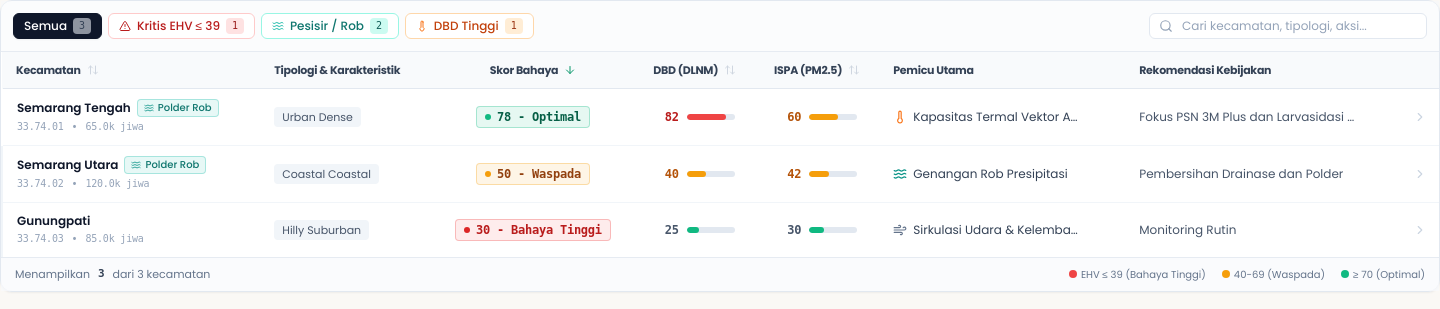
Dashboard Components › VulnerabilityTable filters districts by search query and triage buttons
The image size is (1440, 309).
Filter by search query
Type "Gunungpati" into the field with placeholder "Cari kecamatan, tipologi, aksi..." at (1288, 26), box [1149,13,1427,39]
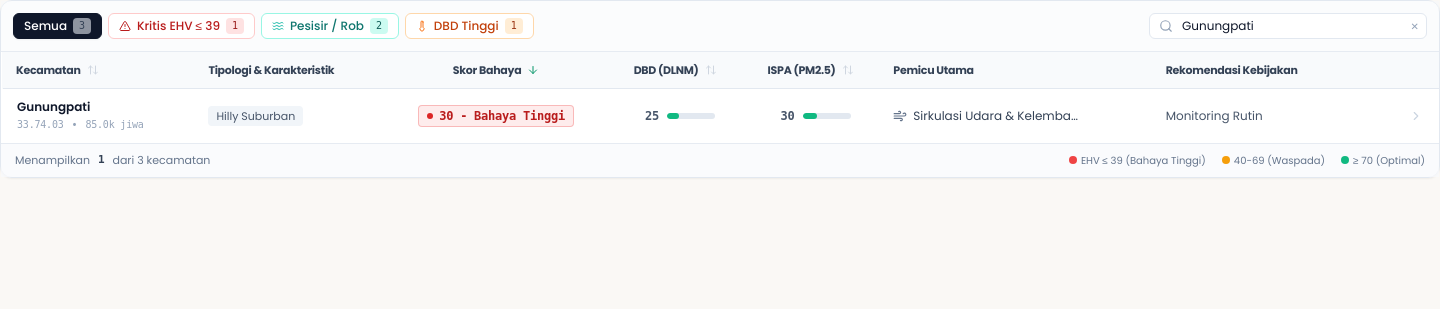
Expected: the text "Gunungpati" is shown, [17,99,90,115]
Result: the text "Semarang Tengah" is gone
Reset search
Clear the field with placeholder "Cari kecamatan, tipologi, aksi..." at (1288, 26), box [1149,13,1427,39]
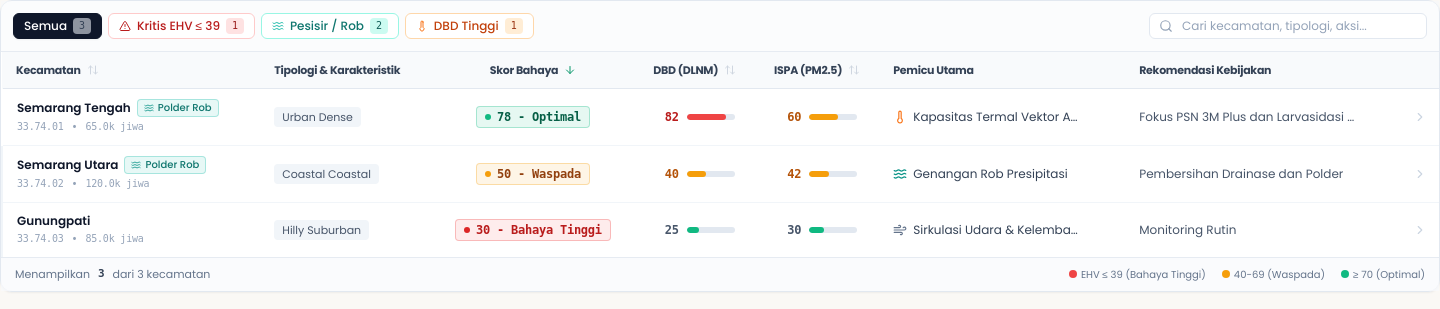
Result: the text "Semarang Tengah" is shown at [17,100,131,116]
Click the text "Kritis EHV ≤ 39" at (178, 26), box [137,18,220,34]
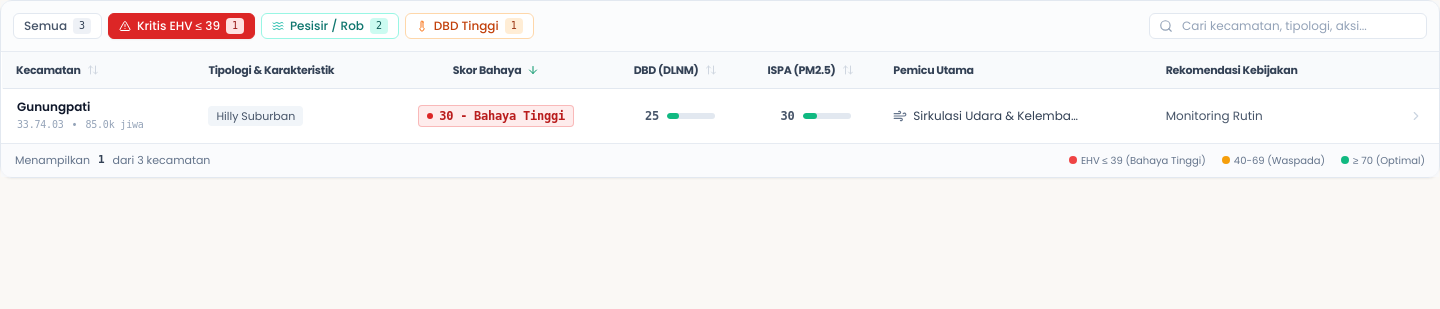
Expected: the text "Gunungpati" is shown, [17,99,90,115]
Result: the text "Semarang Tengah" is gone
Result: the text "Semarang Utara" is gone
Triage filter: Rob Hazard
Click the text "Pesisir / Rob" at (327, 26), box [290,18,364,34]
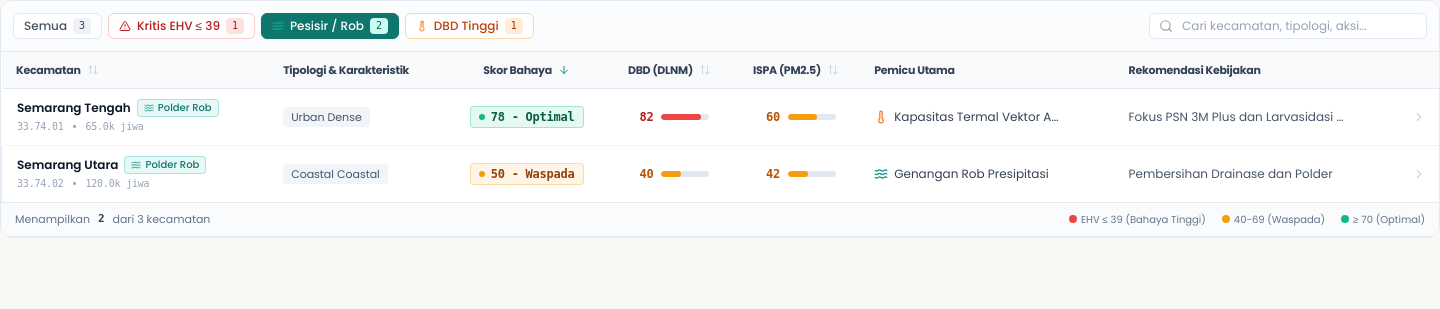
Result: the text "Semarang Tengah" is shown at [17,100,131,116]
Result: the text "Semarang Utara" is shown at [17,157,118,173]
Result: the text "Gunungpati" is gone
